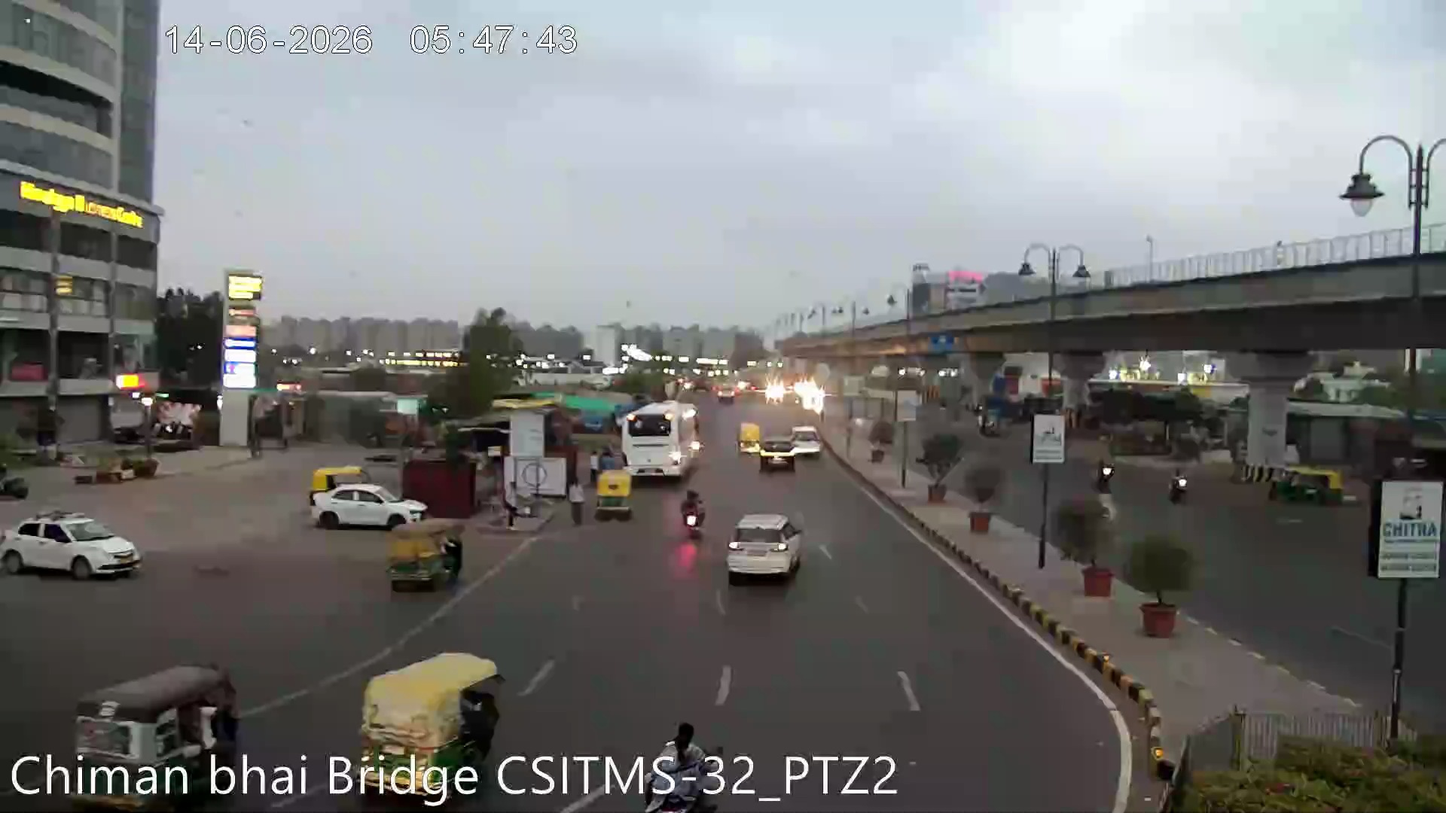auto_rickshaw: (61, 657, 256, 774), (354, 650, 506, 767), (383, 521, 466, 592), (1271, 461, 1349, 508), (593, 468, 635, 519), (758, 439, 796, 474), (789, 424, 823, 457), (735, 418, 763, 453)
bus: (623, 400, 703, 477)
car: (0, 504, 144, 583), (308, 477, 429, 535), (724, 509, 805, 584), (758, 439, 796, 473), (789, 423, 823, 456)
pedestrian: (567, 474, 587, 528)
two_wheeler: (643, 716, 728, 803), (676, 485, 709, 541), (1084, 476, 1122, 524), (1088, 449, 1119, 497), (1163, 463, 1192, 512)
